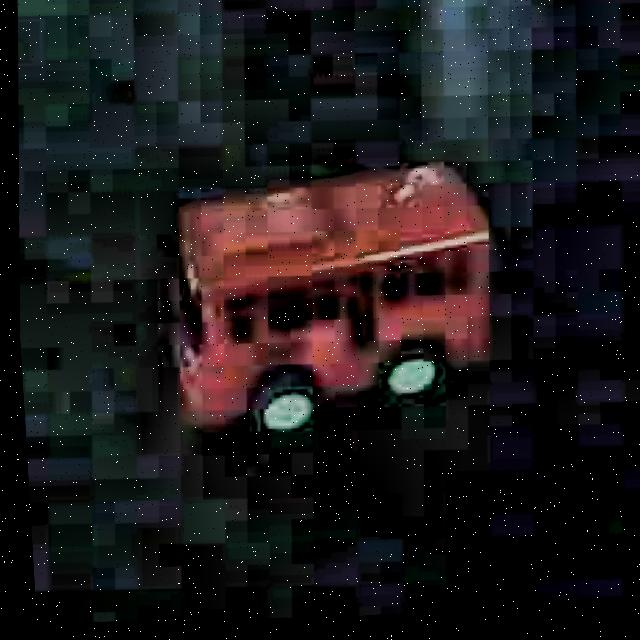bus: (141, 132, 519, 468)
